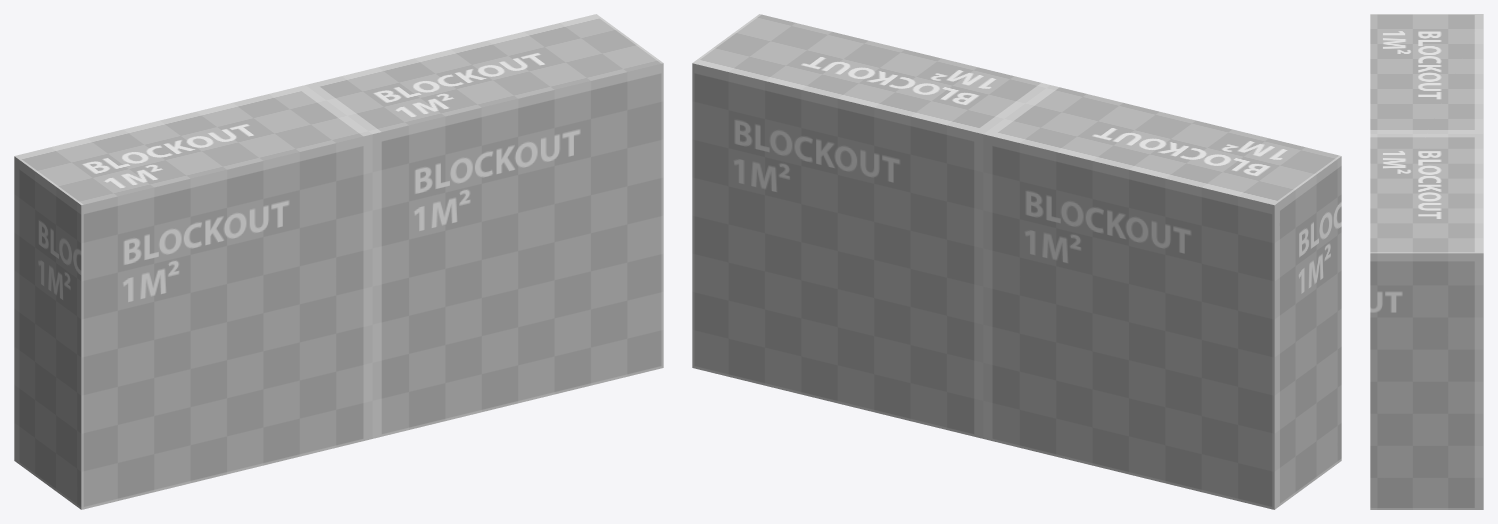
File: BlockoutEdgeHalfThick02.fbx
3 renders of one model, left to right at view 1: azimuth 30°, elevation 25°; view 2: azimuth 150°, elevation 25°; view 3: azimuth 270°, elevation 25°, orthographic. The views are drawn at different scales.
Parts seen in each view (by area): view 1: BlockoutEdgeHalfThick02; view 2: BlockoutEdgeHalfThick02; view 3: BlockoutEdgeHalfThick02.
Boxes of the visible parts, x1=… form: BlockoutEdgeHalfThick02: x1=14, y1=14, x2=663, y2=509; BlockoutEdgeHalfThick02: x1=692, y1=14, x2=1341, y2=509; BlockoutEdgeHalfThick02: x1=1370, y1=14, x2=1483, y2=509.
Size of the model in its own units: 200 by 100 by 40.
